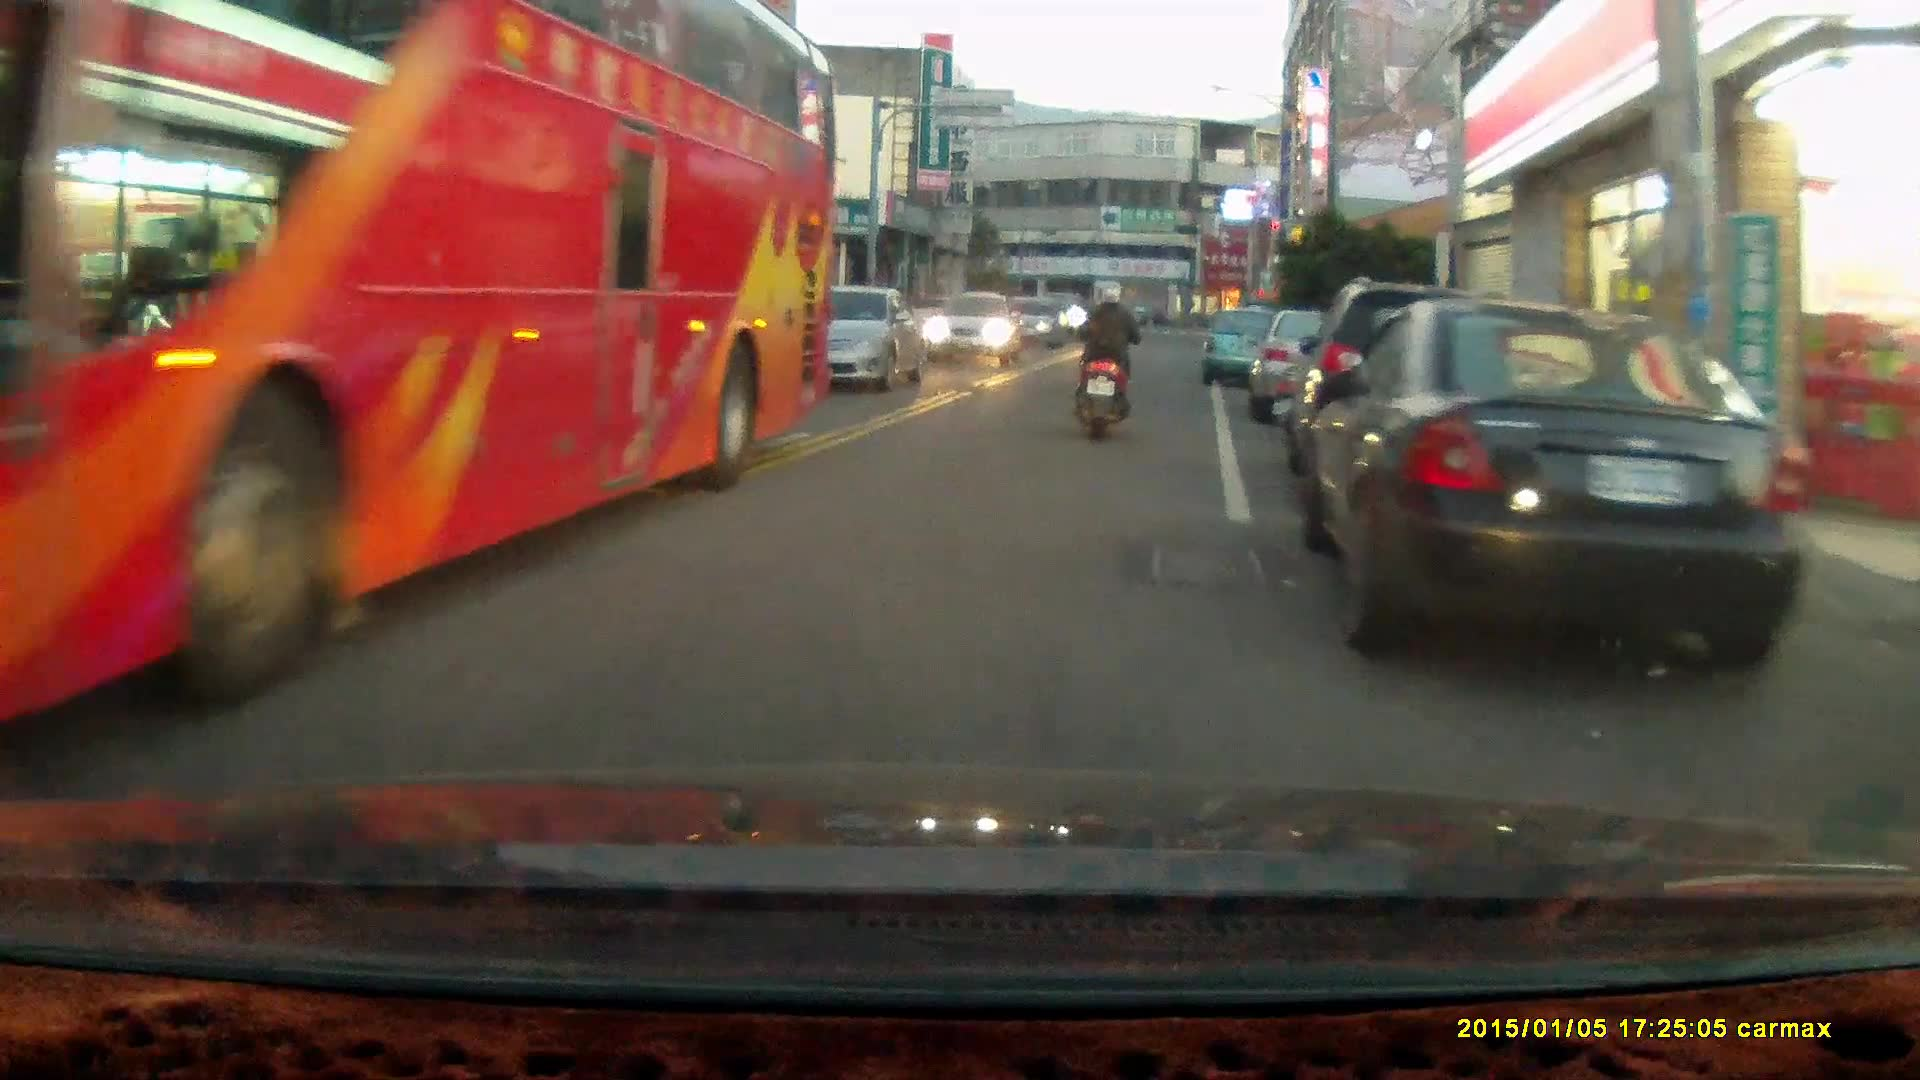rider: (1071, 280, 1142, 441)
vehicle: (1, 9, 843, 710), (1302, 301, 1837, 711), (1298, 270, 1559, 517), (1264, 304, 1450, 434), (769, 286, 923, 395), (1202, 305, 1296, 392), (926, 288, 1028, 367)
